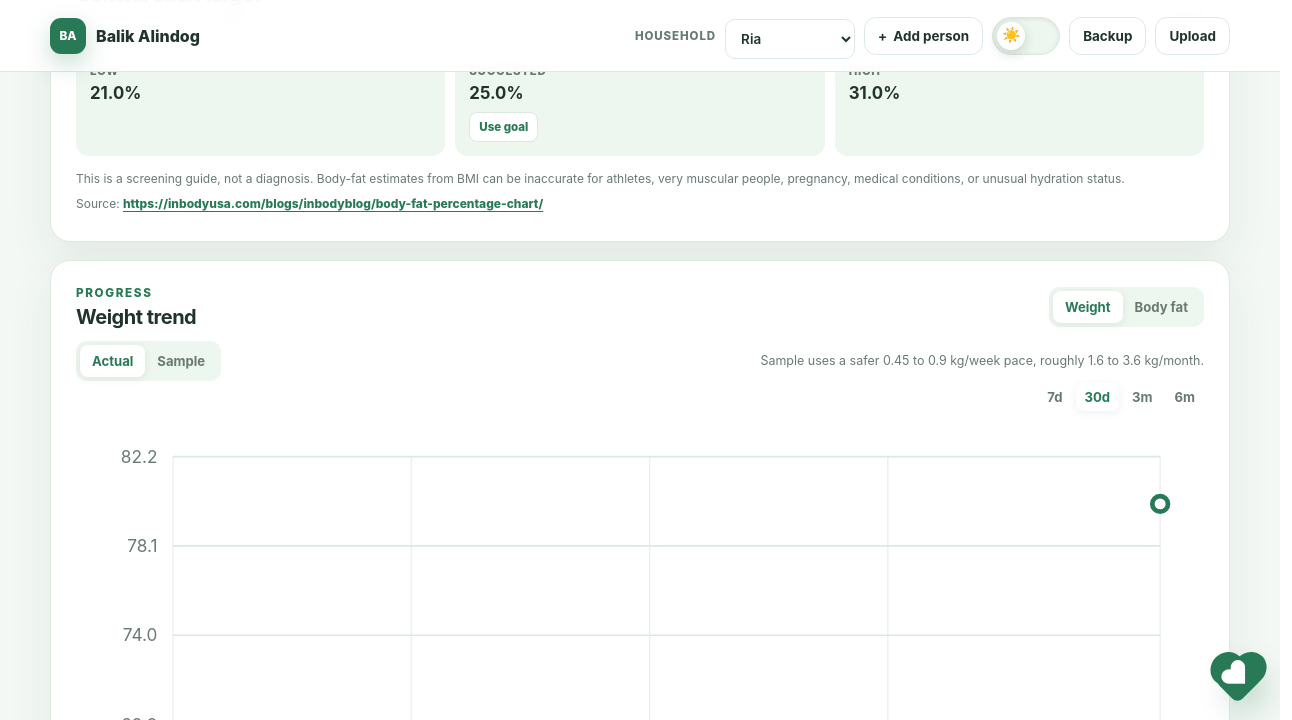
Test: Balik Alindog Tracker › shows a sample forecast in the progress chart
(page scrolled)
Click the button "Sample" at (181, 361), box [145,345,217,377]
(page scrolled)
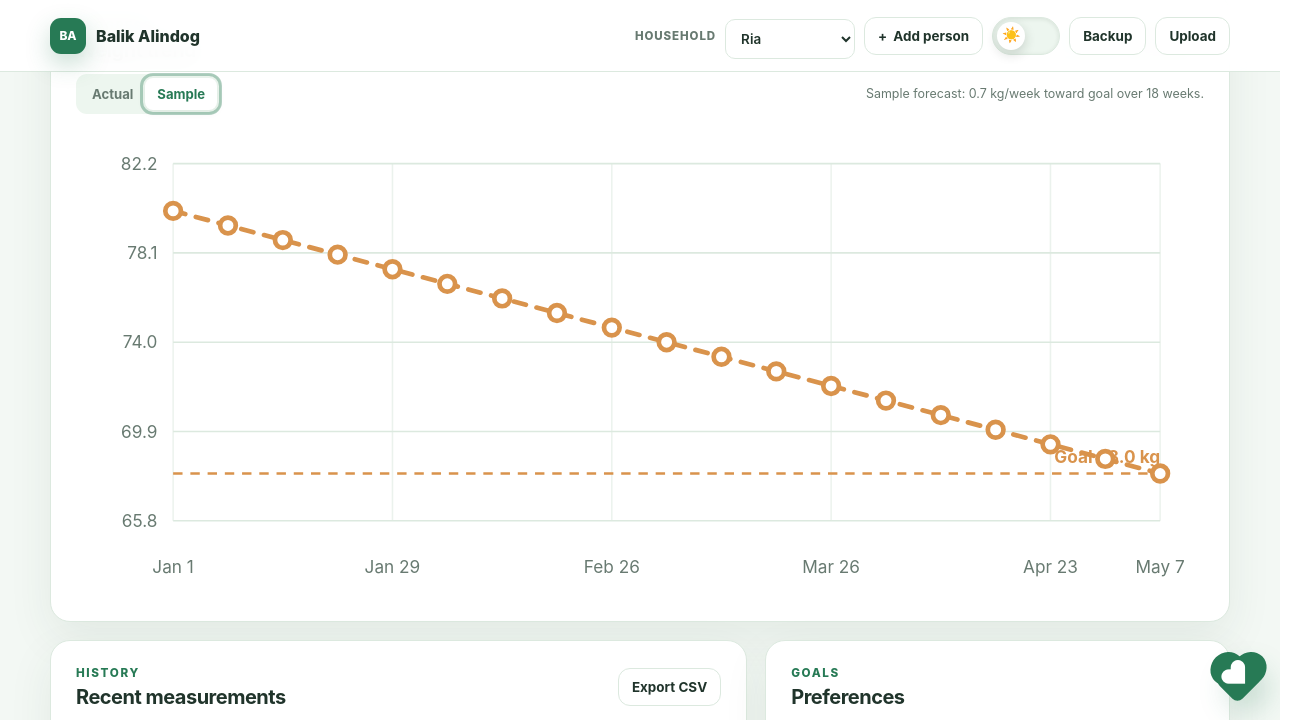
Now the text "Sample forecast: 0.7 kg/week toward goal over 18 weeks." is shown, box [866,86,1204,101]
Now the picture named "sample forecast progress graph" is shown, box [76,126,1204,596]
